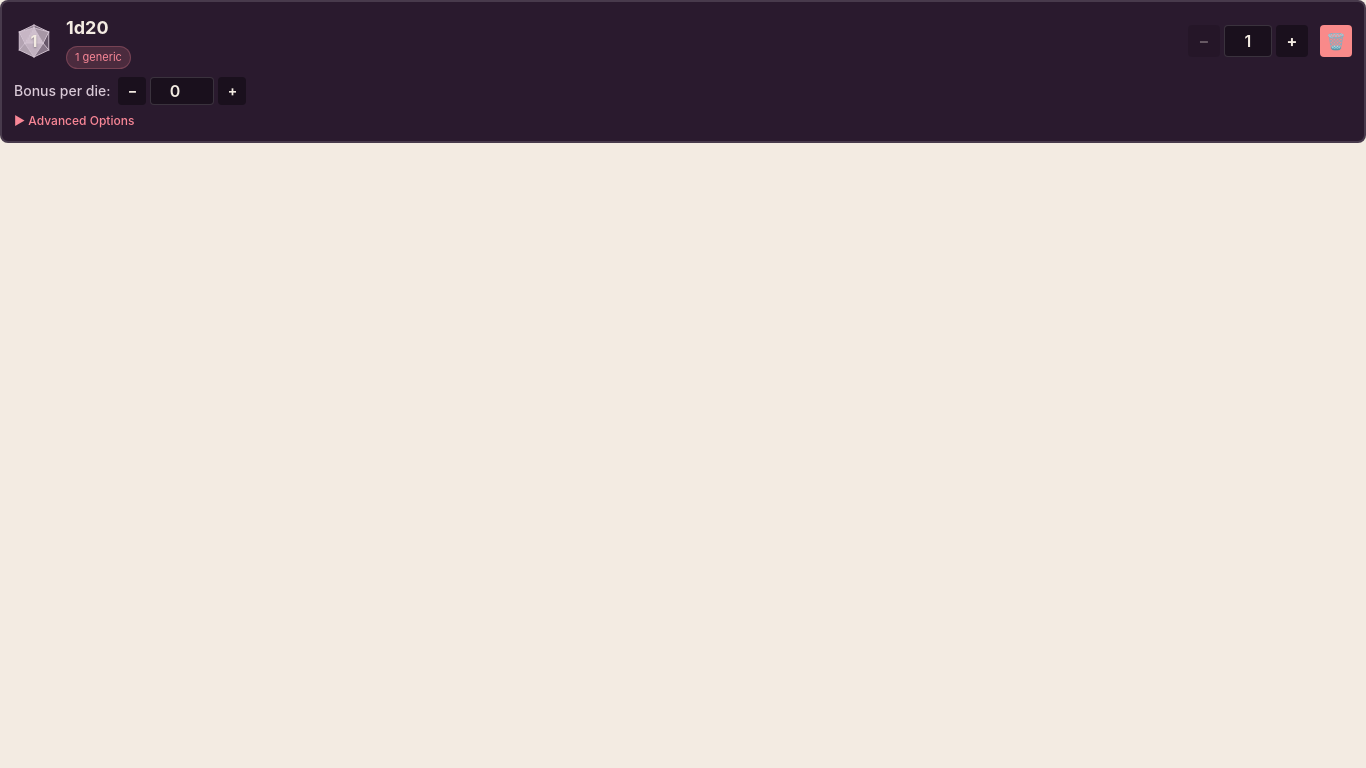
DiceEntryCard quick presets › turns a d20 into disadvantage, keeping the worst of two
What coordinates should you click on to do the following:
click the button "▶ Advanced Options"
I would click on:
 (80, 120)
Its box is [14,112,1352,128].
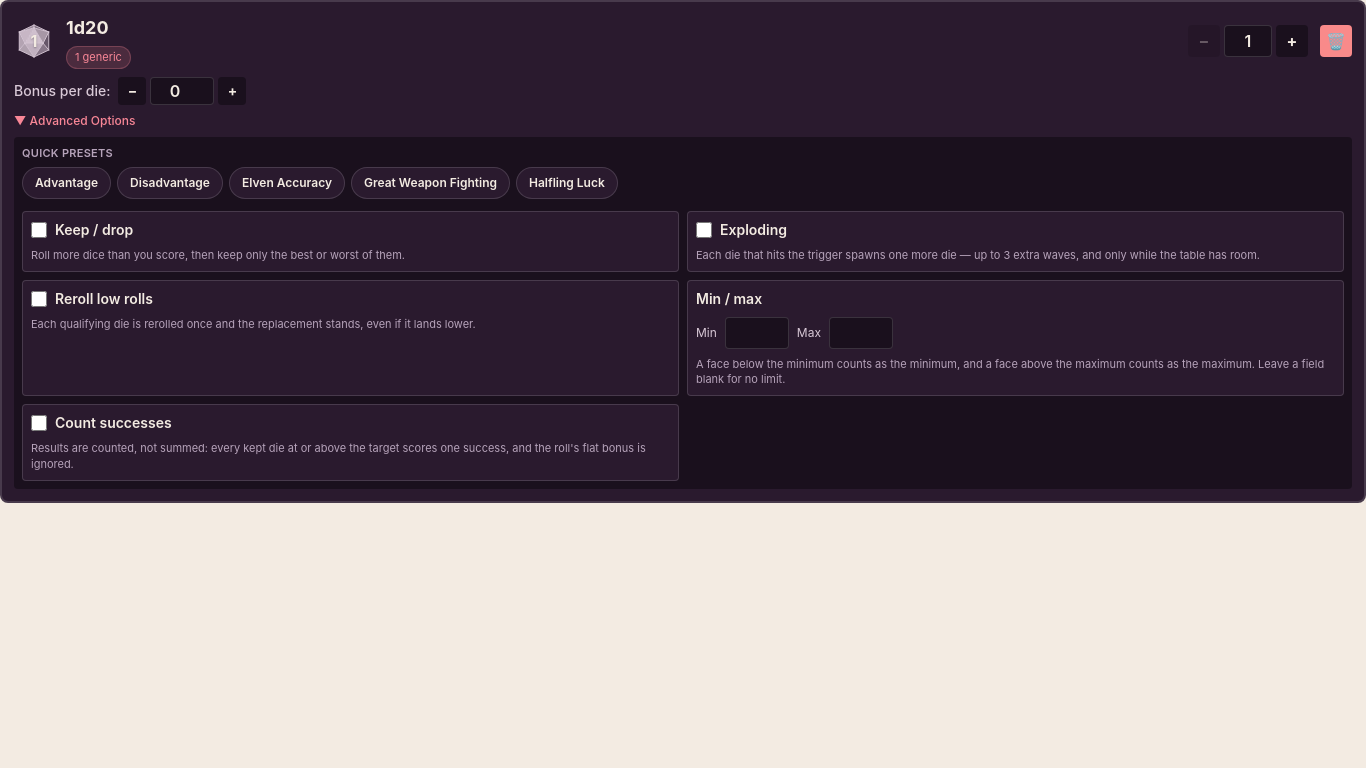
What coordinates should you click on to do the following:
click the button with aria-label "Apply Disadvantage to D20"
I would click on:
 (170, 183)
Its box is [117,167,223,199].
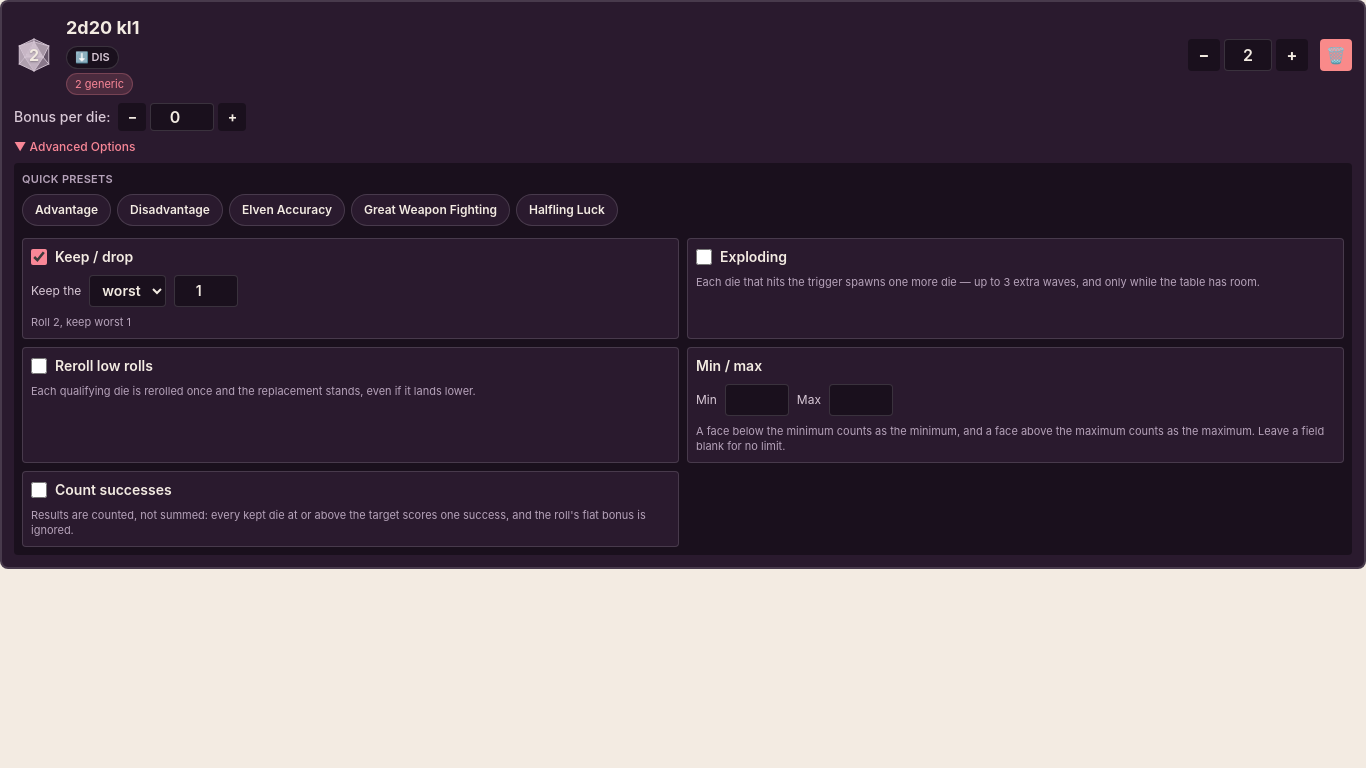
Now the text "2d20 kl1" is shown, box [66,17,140,38]
